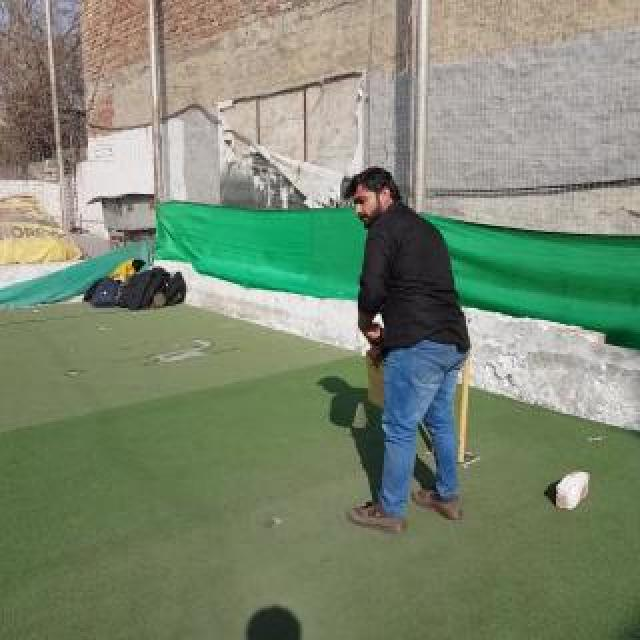bat: (367, 324, 385, 408)
